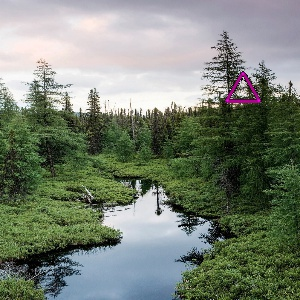triangle: (222, 68, 263, 105)
